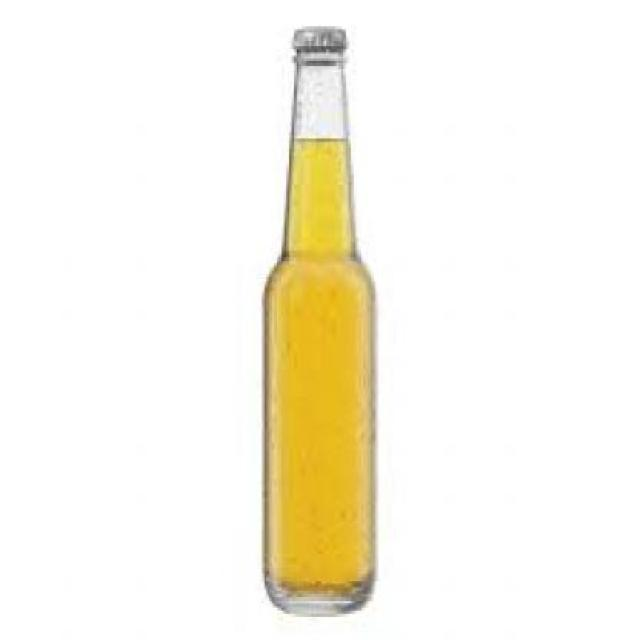kaca: (260, 46, 375, 611)
